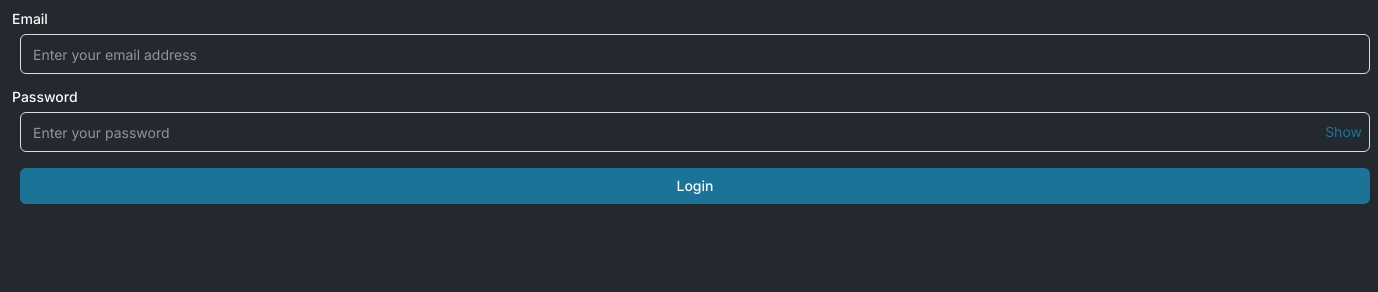
Scenario: LoginForm › Subsequent login attempt › clears error message on new submission attempt
First submission with error
Type "test@example.com" into the field with test id "email-input" at point(695, 54), box top-left (20, 34), bottom-right (1370, 74)
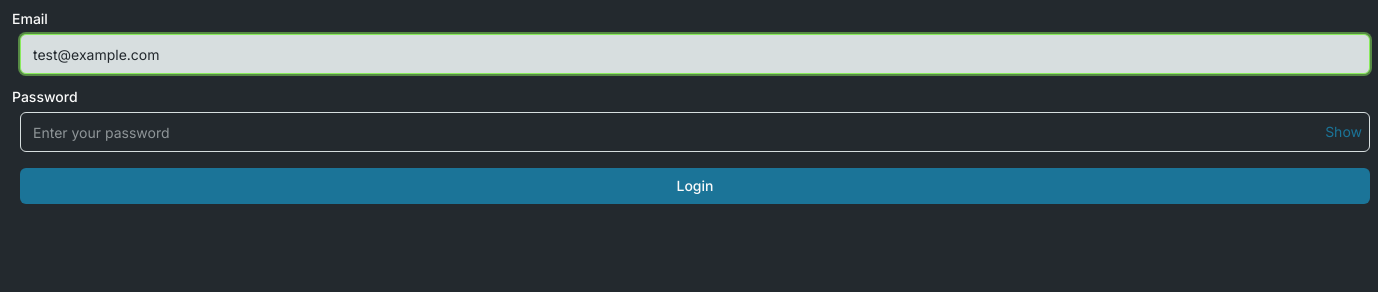
Type "wrongpassword" into the password field with test id "password-input" at point(695, 132), box top-left (20, 112), bottom-right (1370, 152)
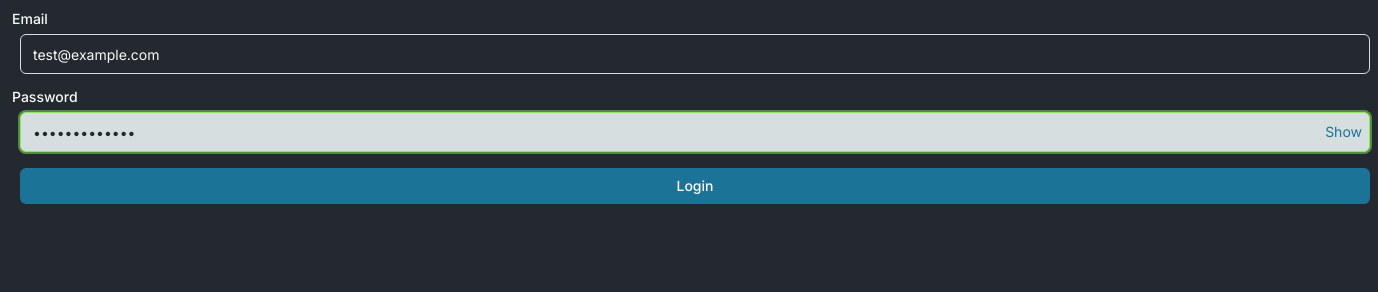
Click the button with test id "login-button" at point(695, 186), box top-left (20, 168), bottom-right (1370, 204)
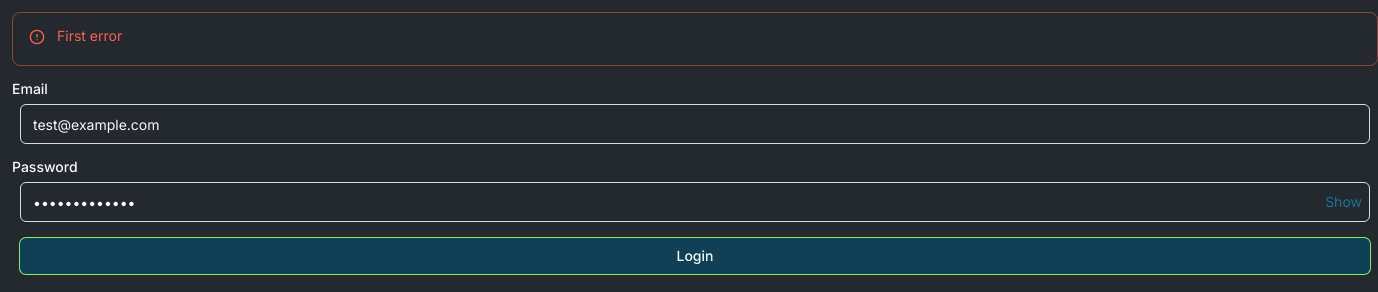
expect the text "First error" is shown: met, box top-left (57, 27), bottom-right (122, 44)
Type "correctpassword" into the password field with test id "password-input" at point(695, 202), box top-left (20, 182), bottom-right (1370, 222)
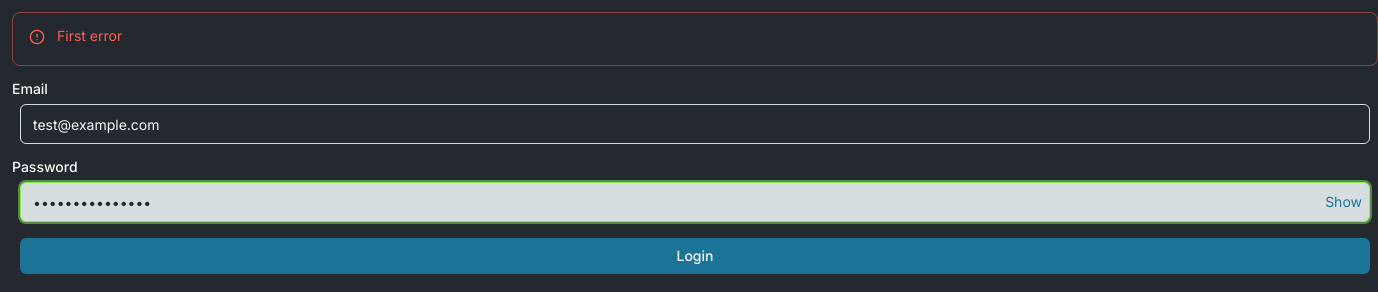
Click the button with test id "login-button" at point(695, 256), box top-left (20, 238), bottom-right (1370, 274)
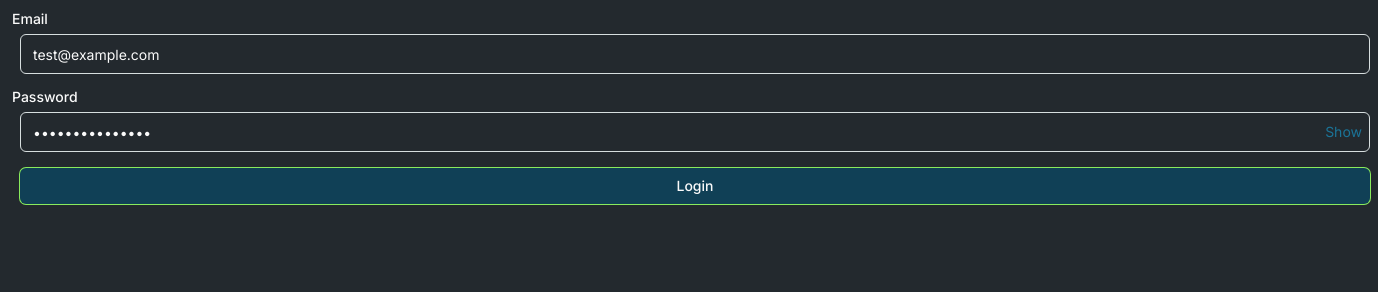
expect the text "First error" is gone: met
